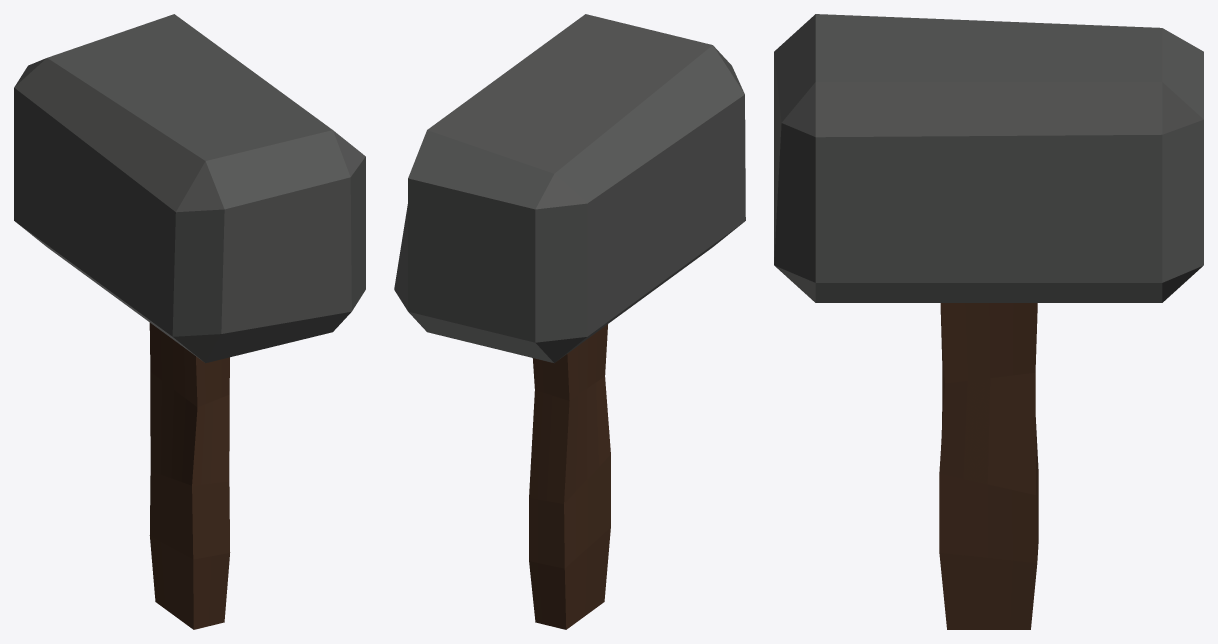
File: hammer.fbx
3 views of the same model, side by side, from view 1: azimuth 30°, elevation 25°; view 2: azimuth 150°, elevation 25°; view 3: azimuth 270°, elevation 25° (orthographic). The views are drawn at different scales.
Parts seen in each view (by area): view 1: Hammer; view 2: Hammer; view 3: Hammer.
Part boxes in pixels (x1,y1,x2,y2): Hammer: (14, 14, 365, 629); Hammer: (394, 14, 745, 629); Hammer: (774, 14, 1203, 629).
Size of the model in its own units: 25 by 64.86 by 44.04.
